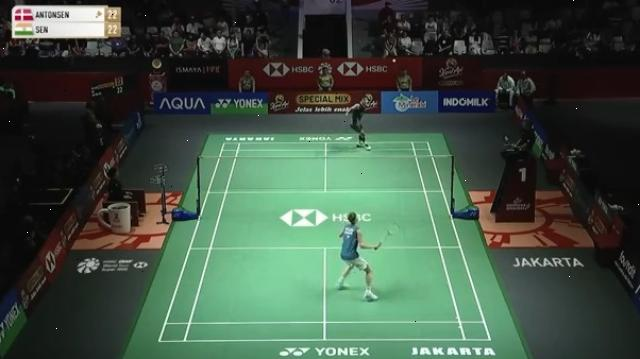Shuttlecock: (390, 54, 400, 66)
